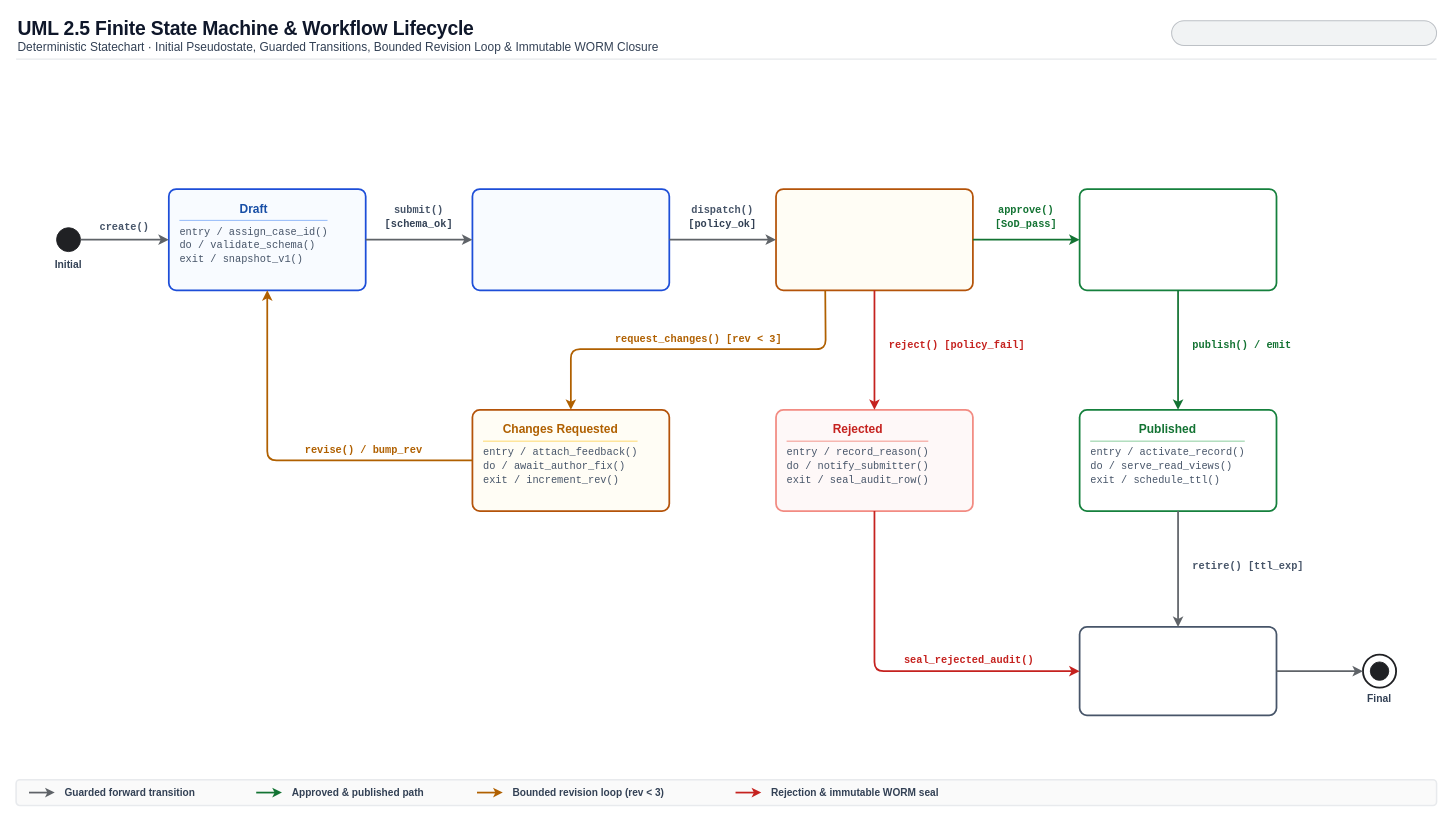
Image size: 1454x822. Some labels were removed from this diagram. The box of each missing label's shape, as (x1, y1, x2, y2) in pixels:
Approved entry / sign_attestation() do / commit_outbox() exit / notify_caller(): (1078, 188, 1277, 291)
Archived (WORM) entry / apply_bucket_lock() do / read_only_audit(): (1078, 626, 1277, 716)
In Review entry / assign_reviewer() do / verify_evidence() exit / log_decision(): (775, 188, 973, 291)
PROCESS & WORKFLOW · UML STATE · L200: (1171, 20, 1437, 46)
Submitted entry / lock_payload() do / screen_policy() exit / emit_submitted(): (471, 188, 670, 291)
